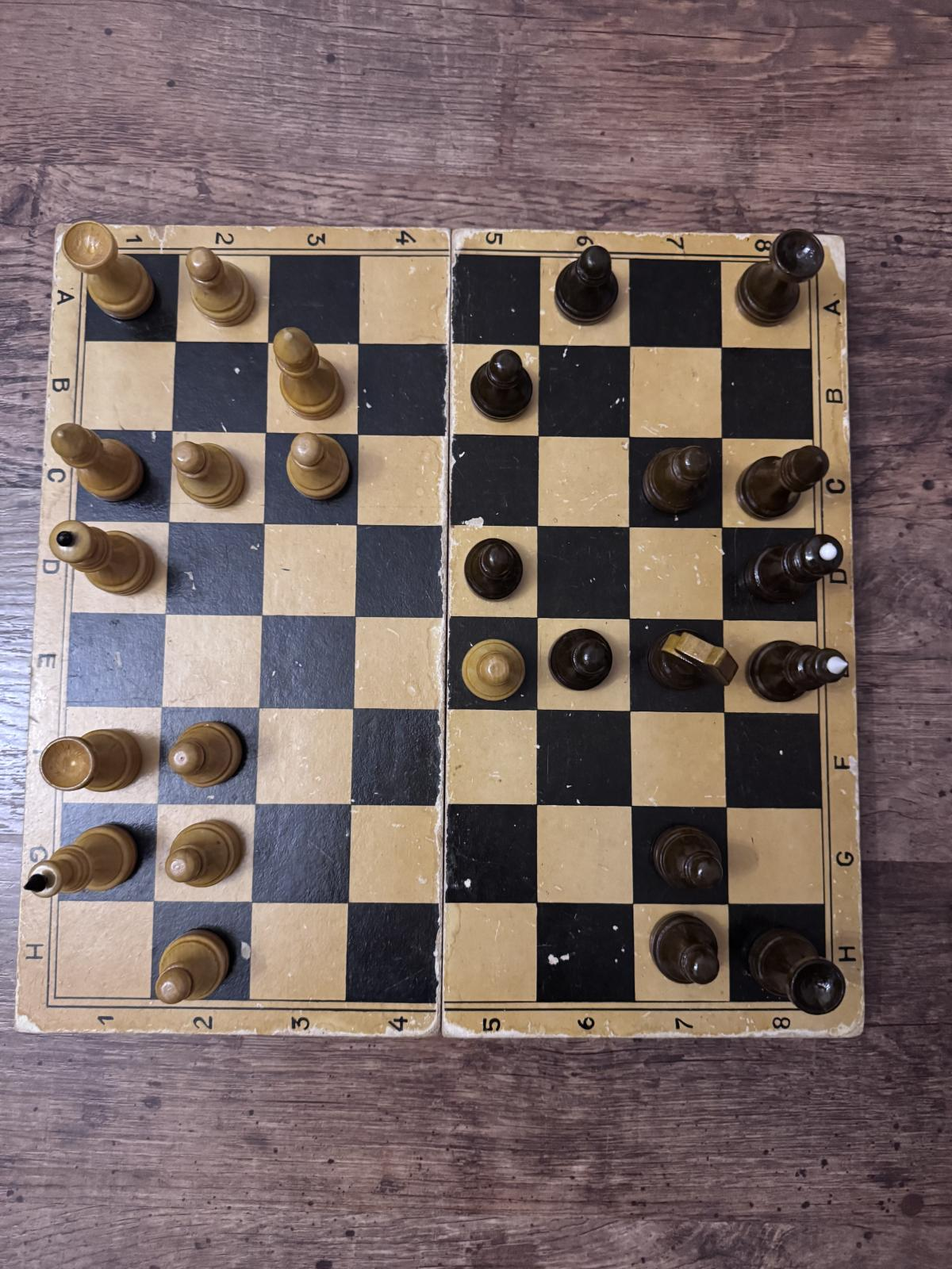Chess-Board: (55, 254, 826, 1001)
